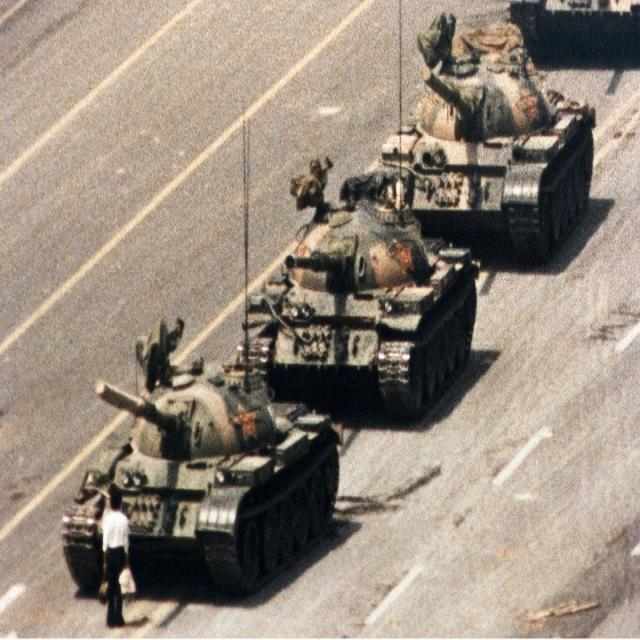MIL_MBT: (59, 312, 367, 636), (280, 150, 485, 424)
